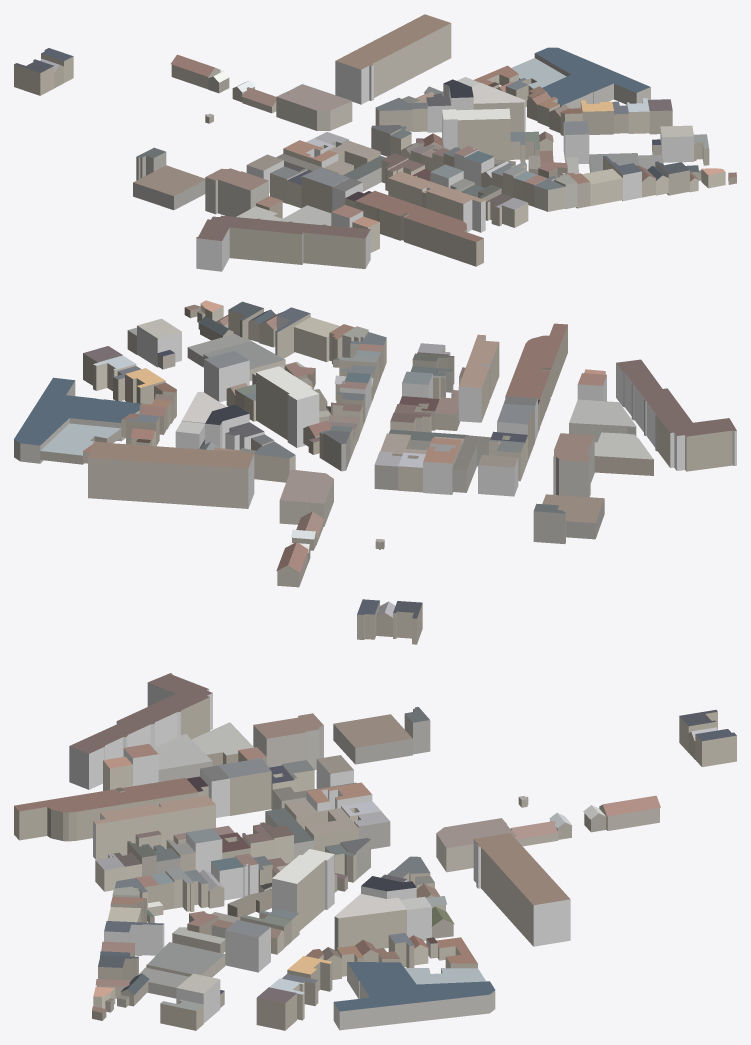
The picture shows the model from 3 angles, top to bottom: view 1: azimuth 30°, elevation 25°; view 2: azimuth 150°, elevation 25°; view 3: azimuth 270°, elevation 25°; orthographic projection. The views are drawn at different scales.
Visible parts, largest first — view 1: tuile; view 2: tuile; view 3: tuile.
Part boxes in pixels (bbox=[...]): tuile: bbox=[14, 14, 736, 271]; tuile: bbox=[14, 300, 736, 644]; tuile: bbox=[14, 673, 736, 1030].
Size of the model in its own units: 287 by 26.63 by 289.
